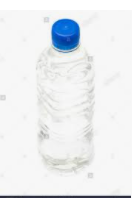Bottle: (33, 18, 95, 170)
